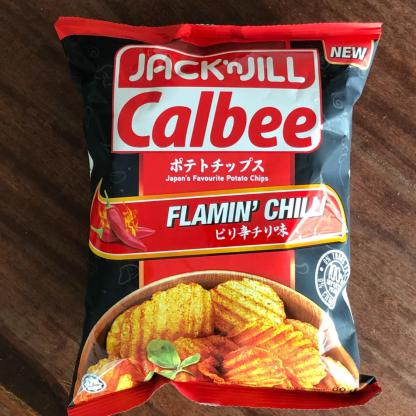potatochip: (47, 6, 388, 416)
